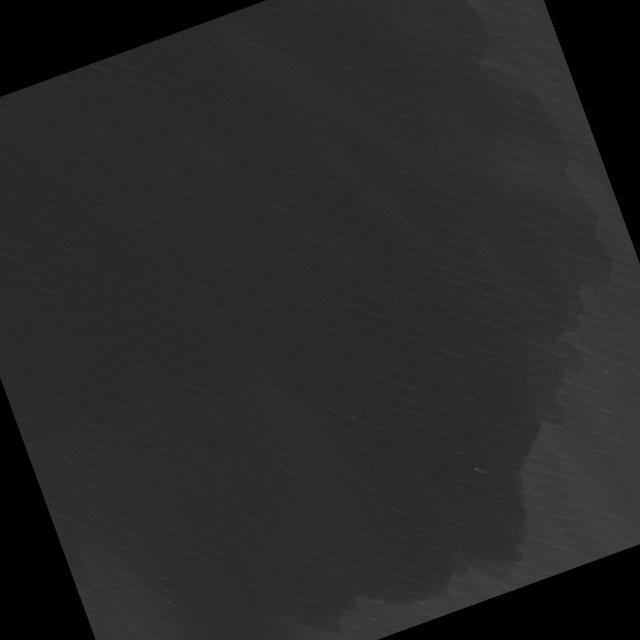ship: (474, 467, 477, 469)
